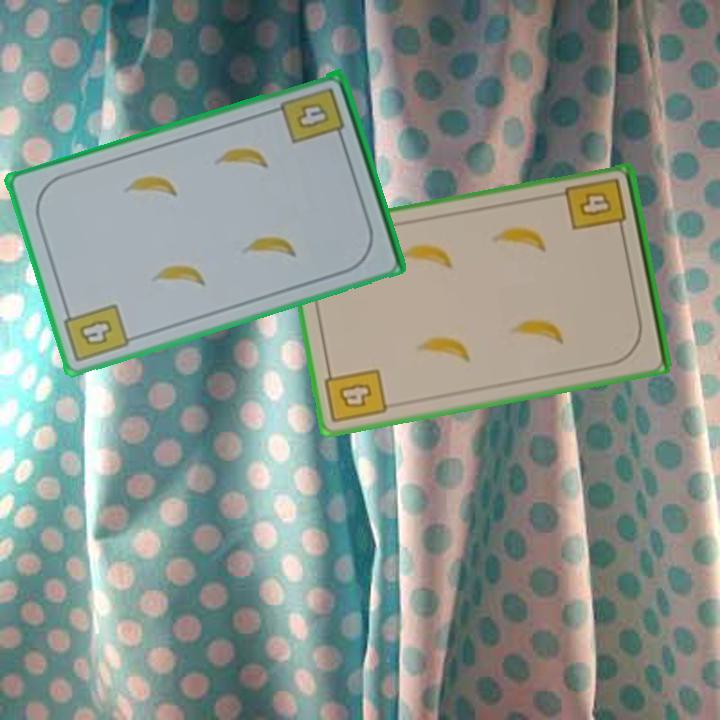4b: (60, 300, 132, 366), (277, 84, 348, 148), (562, 174, 630, 239), (322, 363, 390, 427)
